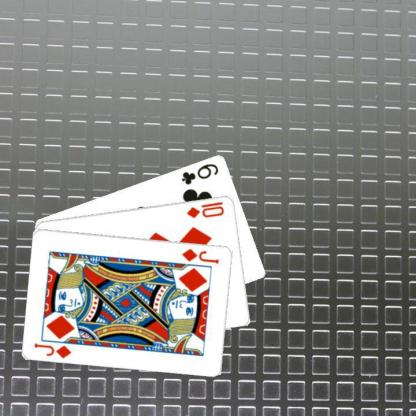10D: (184, 199, 226, 219)
6C: (179, 161, 220, 186)
JD: (32, 340, 73, 360), (180, 246, 220, 265)
